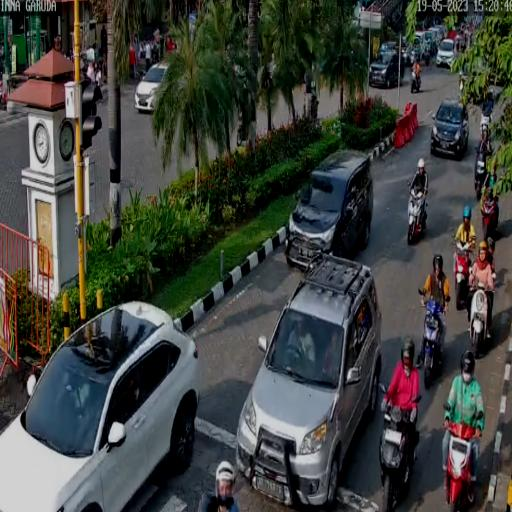mobil: (0, 299, 200, 512), (234, 258, 385, 499), (282, 147, 375, 278), (428, 93, 469, 164)
motor: (377, 376, 421, 508), (442, 405, 487, 512), (416, 276, 447, 396), (465, 273, 497, 357), (406, 175, 432, 250), (448, 224, 472, 301), (478, 189, 502, 244), (470, 137, 490, 197)
